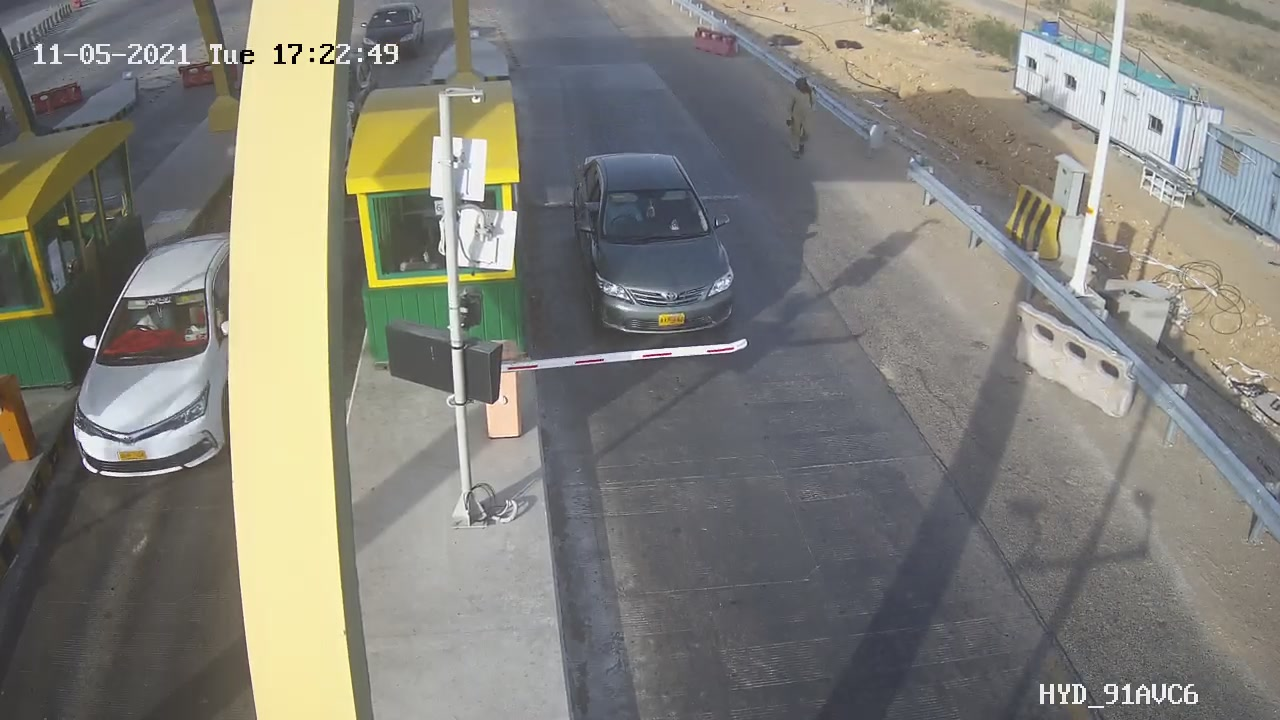F1: (551, 136, 768, 361)
